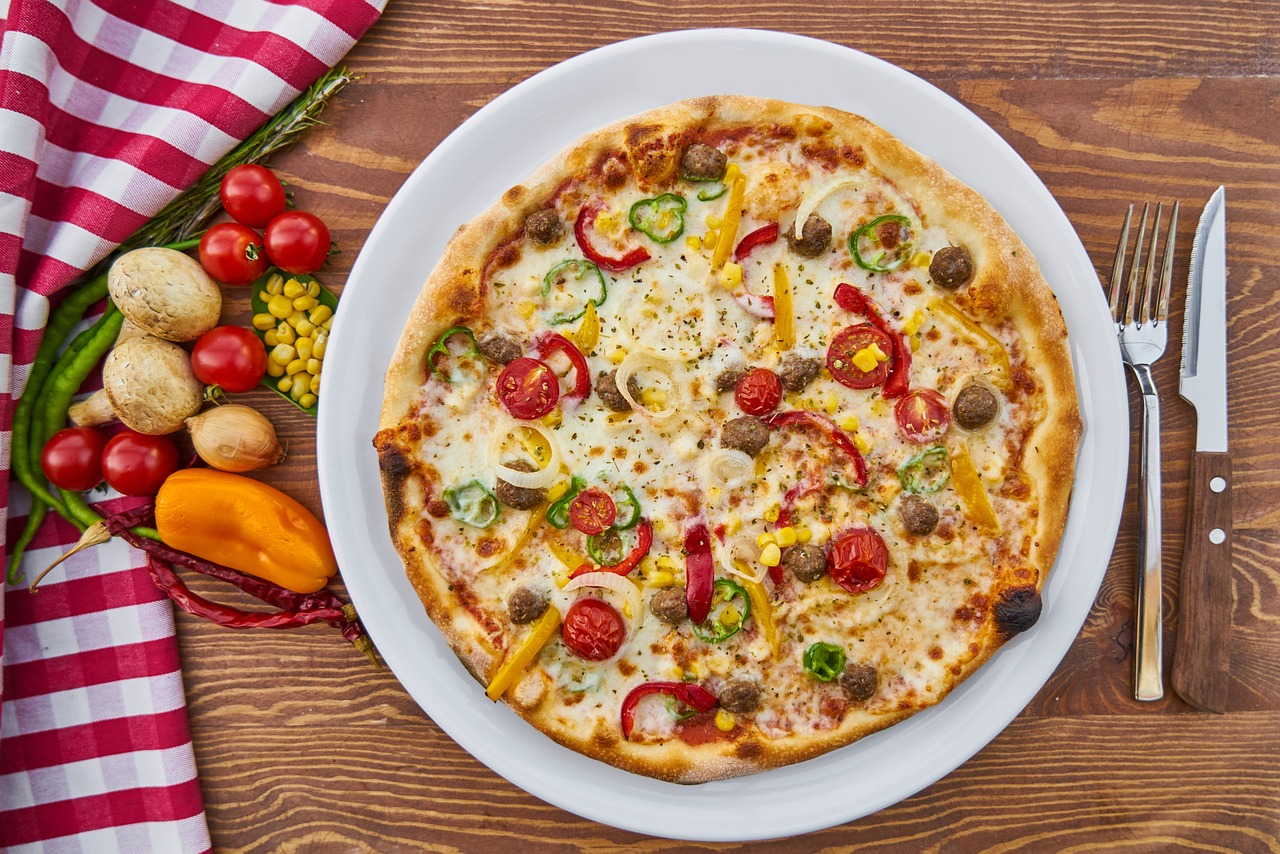knife: (1170, 177, 1249, 717)
